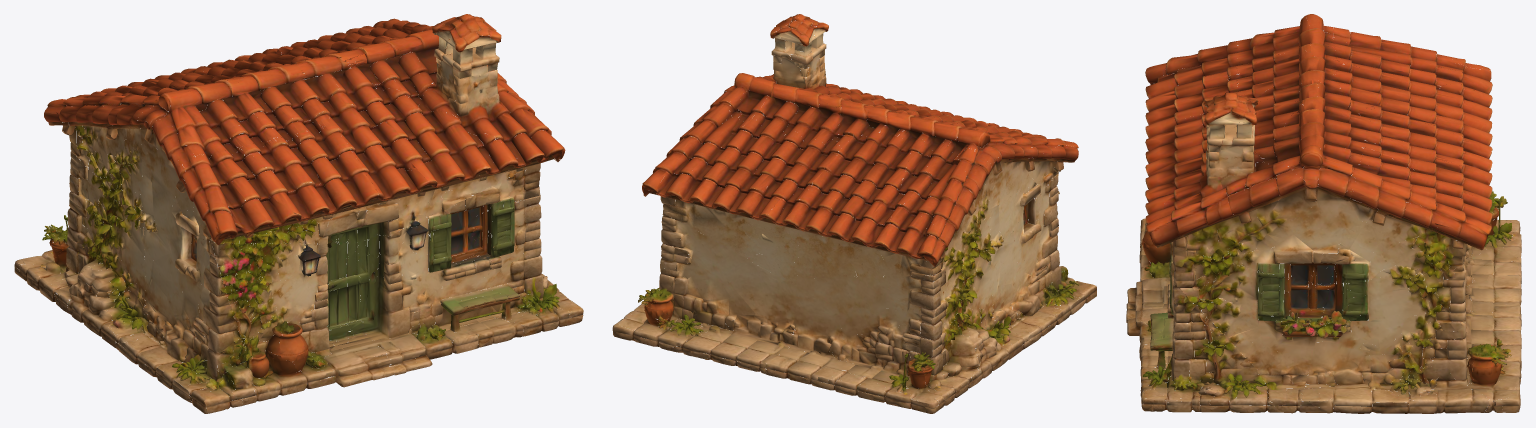
Rendered from courtyard_cottage_preview.glb.
3 views of the same model, side by side, from view 1: azimuth 30°, elevation 25°; view 2: azimuth 150°, elevation 25°; view 3: azimuth 270°, elevation 25° (orthographic). The views are drawn at different scales.
Parts seen in each view (by area): view 1: tripo_node_d725aefe-6c34-496c-b739-c213000250bf; view 2: tripo_node_d725aefe-6c34-496c-b739-c213000250bf; view 3: tripo_node_d725aefe-6c34-496c-b739-c213000250bf.
Boxes of the visible parts, x1,y1,x2,y2 form: tripo_node_d725aefe-6c34-496c-b739-c213000250bf: [14, 14, 583, 413]; tripo_node_d725aefe-6c34-496c-b739-c213000250bf: [612, 14, 1096, 413]; tripo_node_d725aefe-6c34-496c-b739-c213000250bf: [1126, 14, 1521, 413].
Size of the model in its own units: 0.9796 by 0.7038 by 0.886.
1 material, 1 textured.
